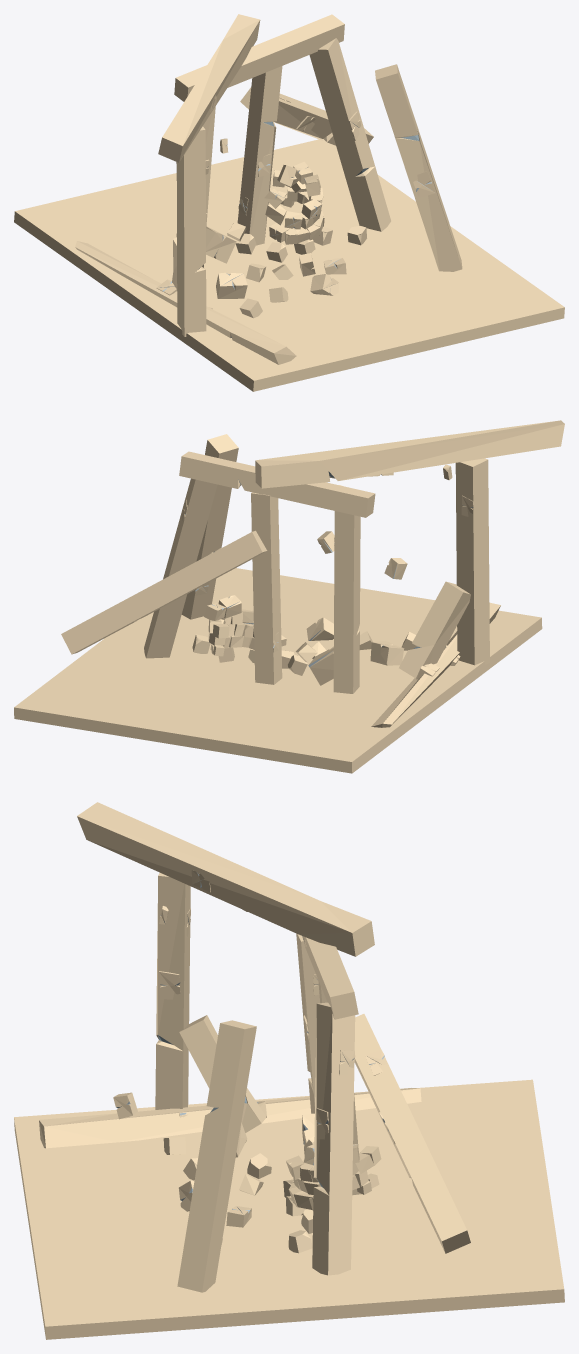
Rendered from Ruin.glb.
3 renders of one model, top to bottom at view 1: azimuth 30°, elevation 25°; view 2: azimuth 150°, elevation 25°; view 3: azimuth 270°, elevation 25°, orthographic. The views are drawn at different scales.
Parts seen in each view (by area): view 1: group557922950, group1685161424, group1910399087, group570815363, group1683706517, group2008784608, group185380123, group501328509, group2005760408, group183228893, group758556863, group656921815 (+2 smaller); view 2: group557922950, group2008784608, group1910399087, group183228893, group1683706517, group794253704, group185380123, group1685161424, group1365211813, group570815363, group501328509, group2005760408 (+3 smaller); view 3: group557922950, group2008784608, group1685161424, group570815363, group1910399087, group183228893, group2005760408, group501328509, group185380123, group1365211813, group794253704.
Boxes of the visible parts, x1,y1,x2,y2 form: group557922950: [14, 139, 564, 391]; group1685161424: [309, 38, 390, 231]; group1910399087: [176, 126, 206, 336]; group570815363: [375, 64, 462, 271]; group1683706517: [237, 66, 282, 245]; group2008784608: [158, 14, 260, 162]; group185380123: [174, 14, 344, 101]; group501328509: [264, 161, 324, 244]; group2005760408: [75, 241, 296, 364]; group183228893: [240, 87, 373, 145]; group758556863: [216, 272, 247, 298]; group656921815: [206, 226, 236, 263]; group557922950: [14, 568, 542, 773]; group2008784608: [255, 420, 564, 488]; group1910399087: [455, 458, 489, 665]; group183228893: [61, 530, 267, 654]; group1683706517: [251, 492, 282, 684]; group794253704: [333, 511, 360, 693]; group185380123: [179, 451, 375, 517]; group1685161424: [144, 478, 217, 658]; group1365211813: [399, 581, 470, 678]; group570815363: [181, 434, 238, 619]; group501328509: [204, 595, 254, 656]; group2005760408: [371, 602, 500, 727]; group557922950: [14, 1079, 564, 1339]; group2008784608: [77, 802, 374, 956]; group1685161424: [312, 1002, 355, 1275]; group570815363: [177, 1020, 256, 1292]; group1910399087: [155, 873, 190, 1109]; group183228893: [354, 1014, 470, 1253]; group2005760408: [39, 1088, 421, 1148]; group501328509: [286, 1141, 381, 1210]; group185380123: [302, 936, 358, 1019]; group1365211813: [179, 1015, 266, 1132]; group794253704: [296, 933, 319, 1113].
Size of the model in its own units: 6.11 by 3.95 by 6.31.
